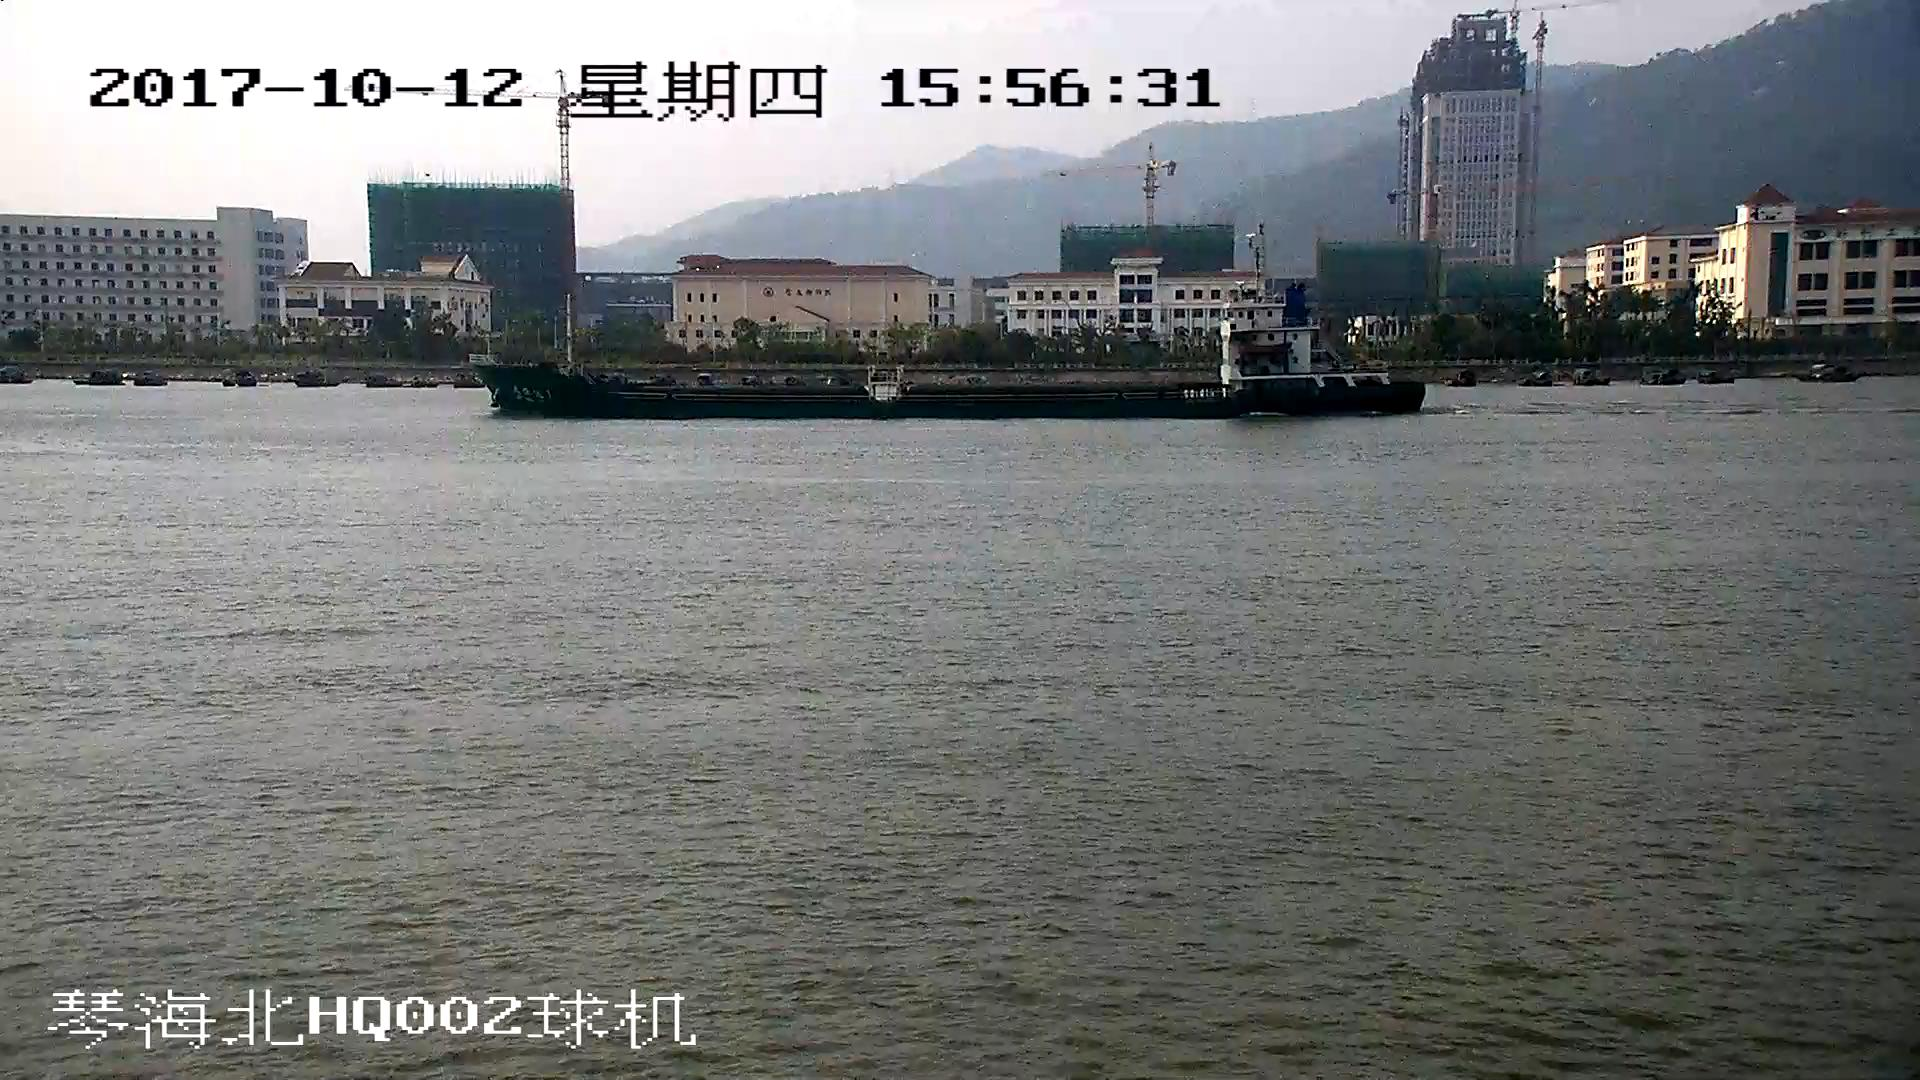general cargo ship: (465, 292, 1426, 417)
